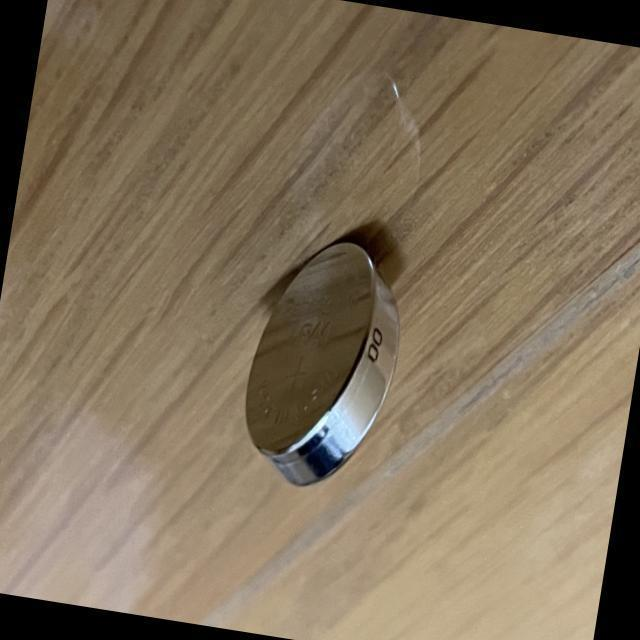COIN: (230, 222, 415, 502)
